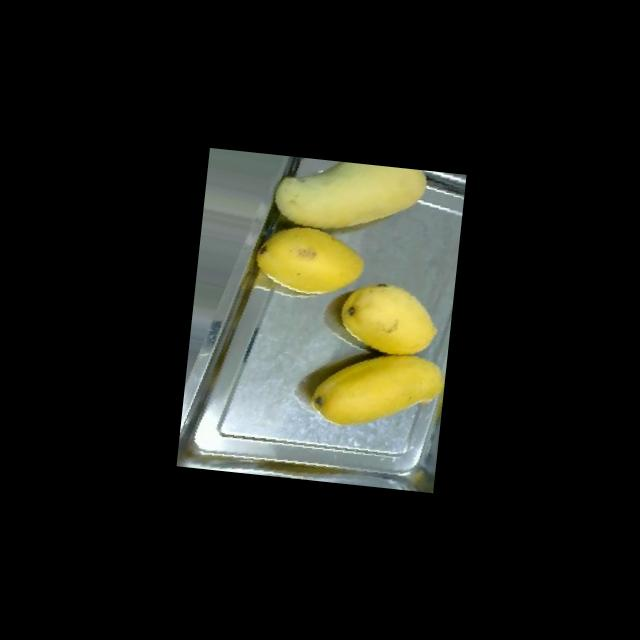Mango: (271, 156, 428, 240), (308, 346, 446, 436), (252, 222, 368, 301), (336, 279, 441, 359)
